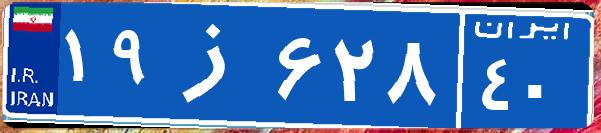0: (525, 38, 570, 115)
1: (57, 26, 110, 107)
2: (330, 28, 385, 110)
4: (475, 38, 525, 113)
6: (273, 28, 330, 110)
8: (385, 28, 445, 110)
9: (110, 28, 158, 105)
ز: (158, 15, 273, 115)
